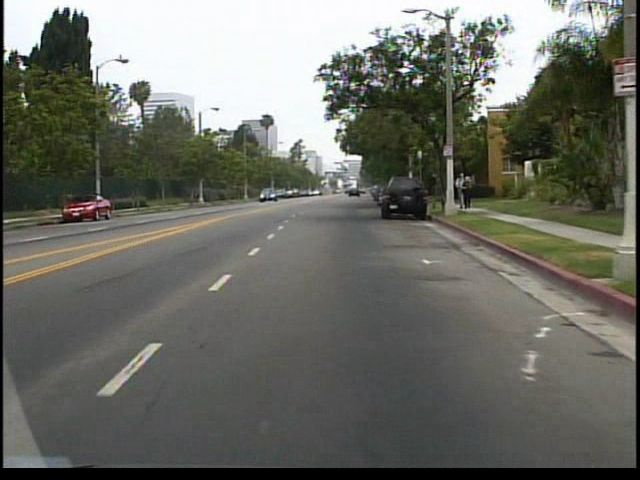person: (461, 173, 476, 209), (455, 169, 464, 211)
